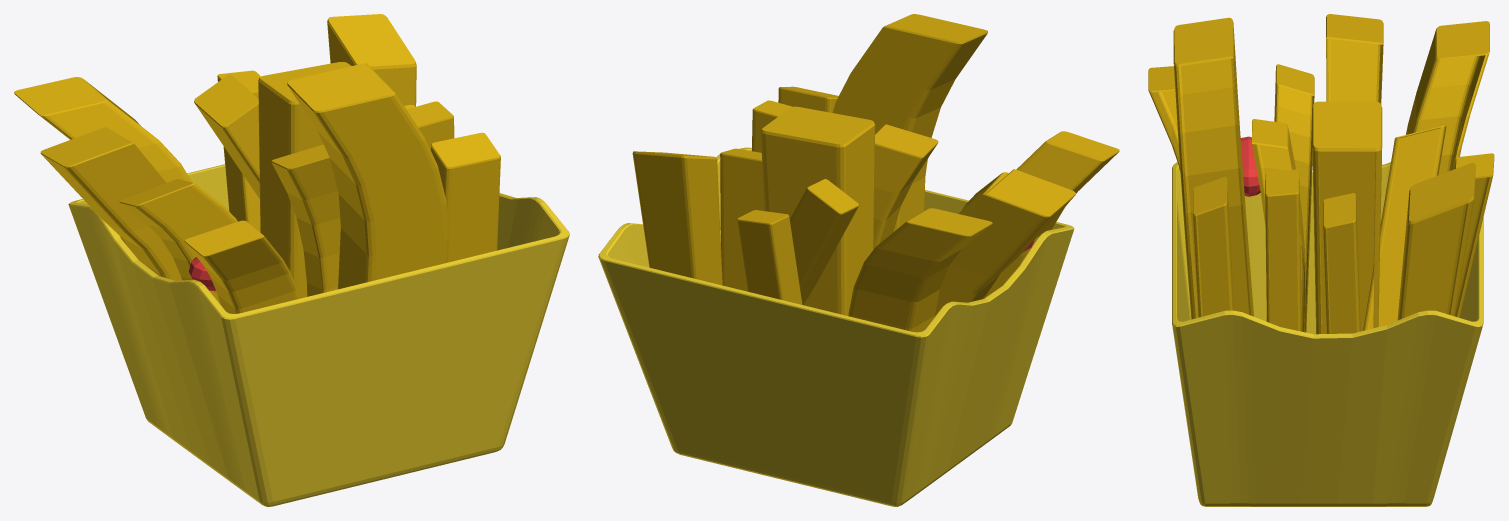
File: potato_revize.fbx
3 views of the same model, side by side, from view 1: azimuth 30°, elevation 25°; view 2: azimuth 150°, elevation 25°; view 3: azimuth 270°, elevation 25° (orthographic). The views are drawn at different scales.
Visible parts, largest first — view 1: potato; view 2: potato; view 3: potato.
Boxes of the visible parts, left/top/right/bottom form: potato: left=14, top=14, right=569, bottom=506; potato: left=598, top=14, right=1119, bottom=506; potato: left=1148, top=14, right=1494, bottom=506.
Bounding box in the file's own units: 244 × 222 × 176.
